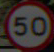Speed limit: (4, 2, 50, 48)
